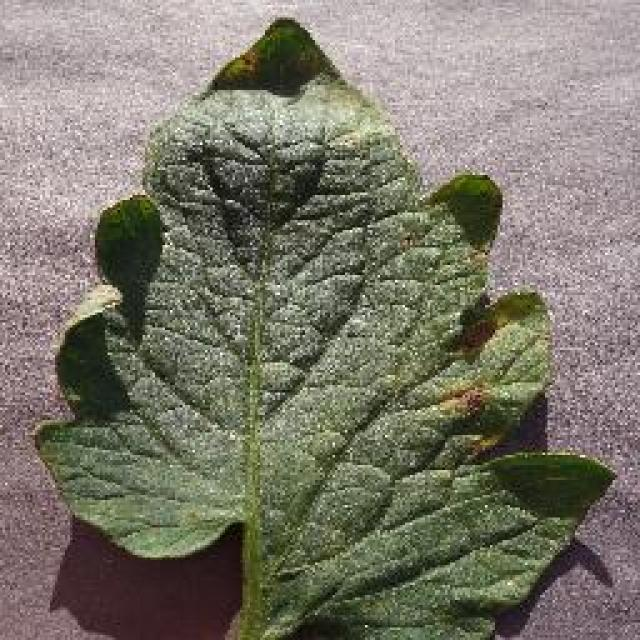Tomato Septoria spot leaf: (30, 15, 615, 640)
